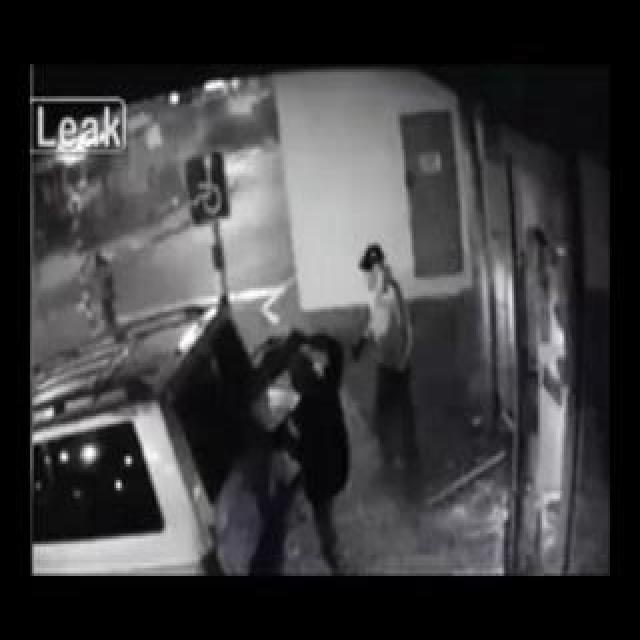thief: (261, 322, 359, 495), (364, 230, 423, 343)
